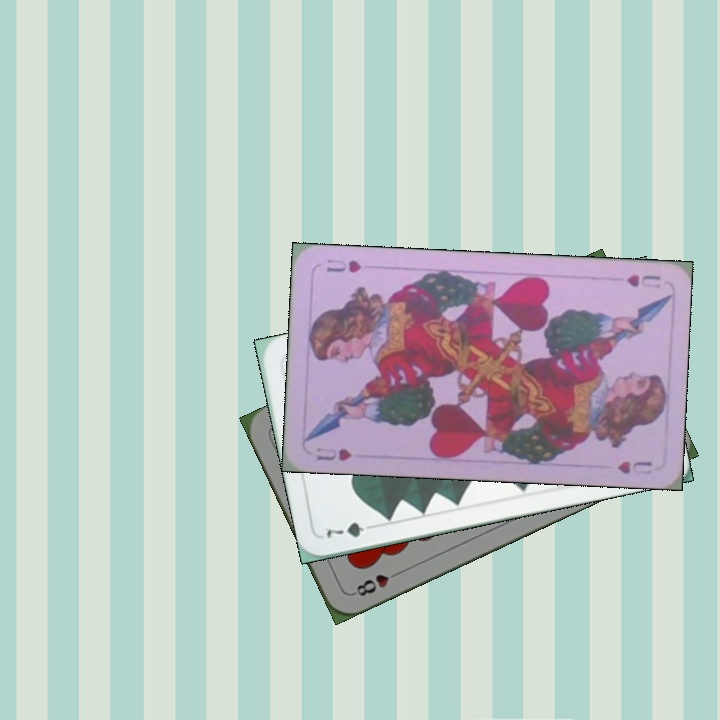G7: (322, 518, 380, 541)
H8: (348, 566, 404, 599)
HU: (312, 443, 355, 464), (622, 270, 663, 291)
